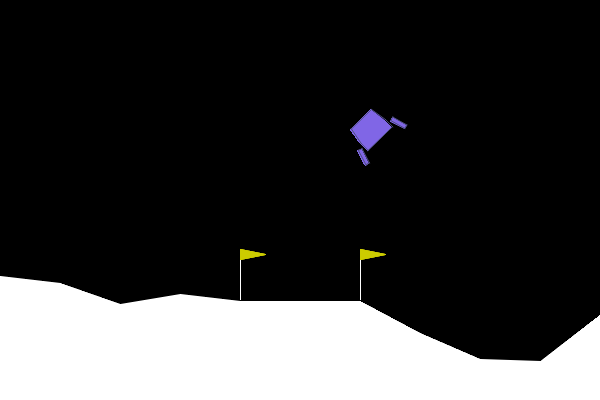lander: (338, 97, 409, 168)
